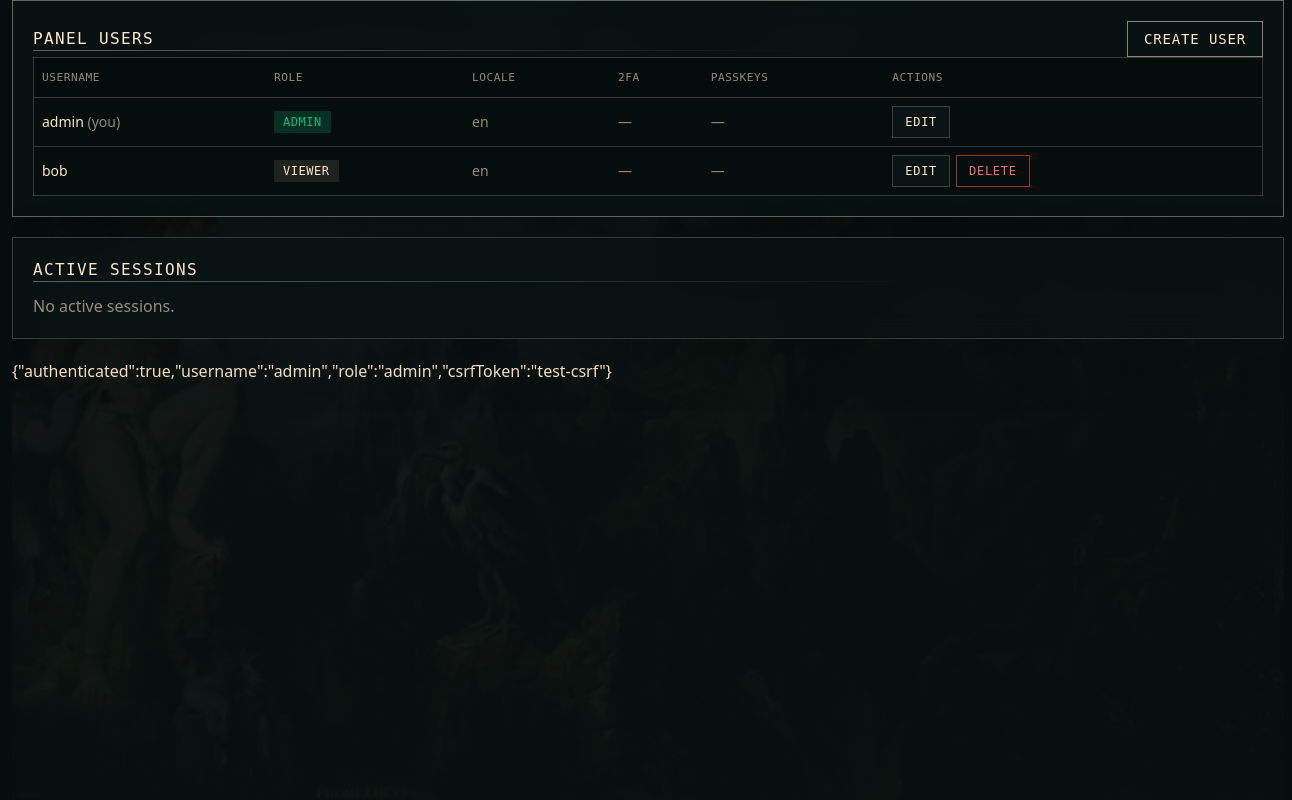
Test: UsersPage errors › warns about self-edit and signs out instead of painting updated
Expected: the text with test id "session-probe" shows "\"authenticated\":true", [12,360,612,382]
Click the button "Edit" in the row of "(you)" at (921,122), box [892,106,950,138]
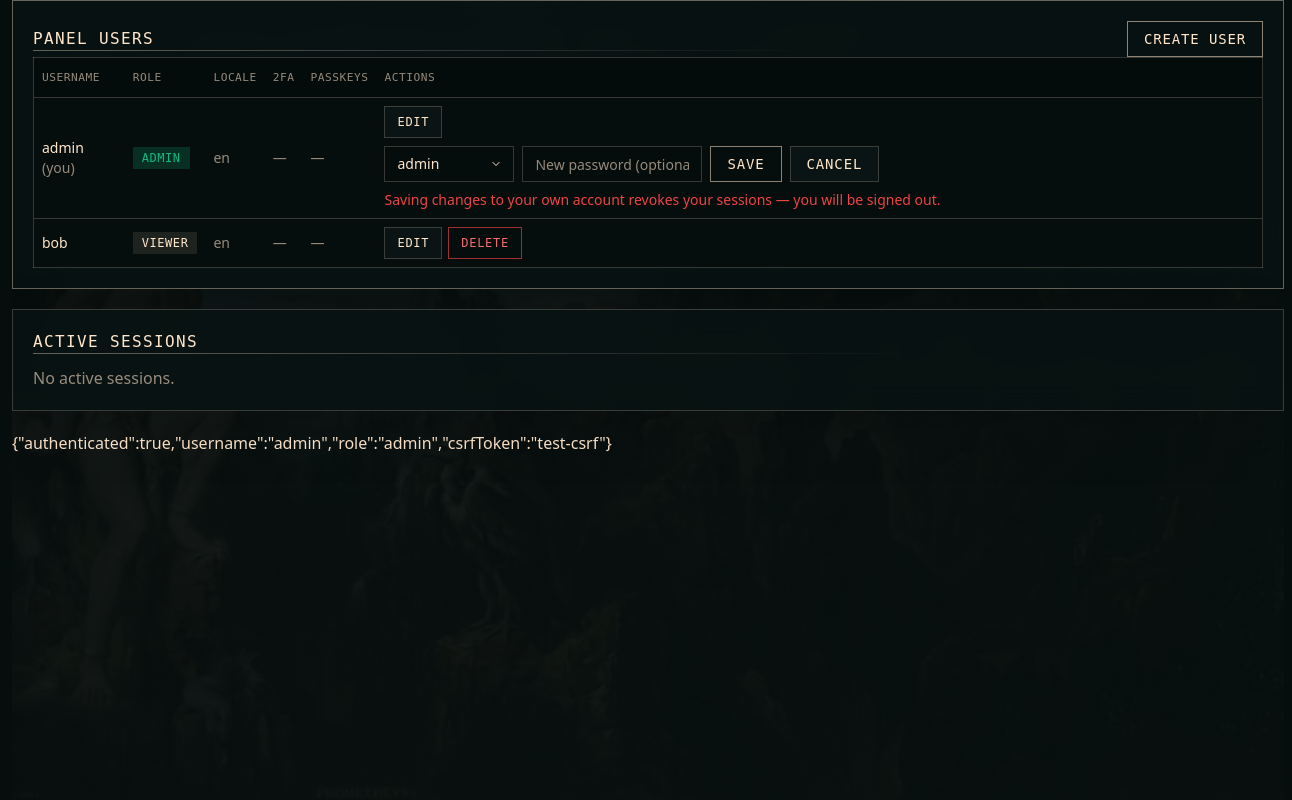
Type "new-secret-pass-1" into the password field labelled "New password (optional)" at (612,164), box [522,146,702,182]
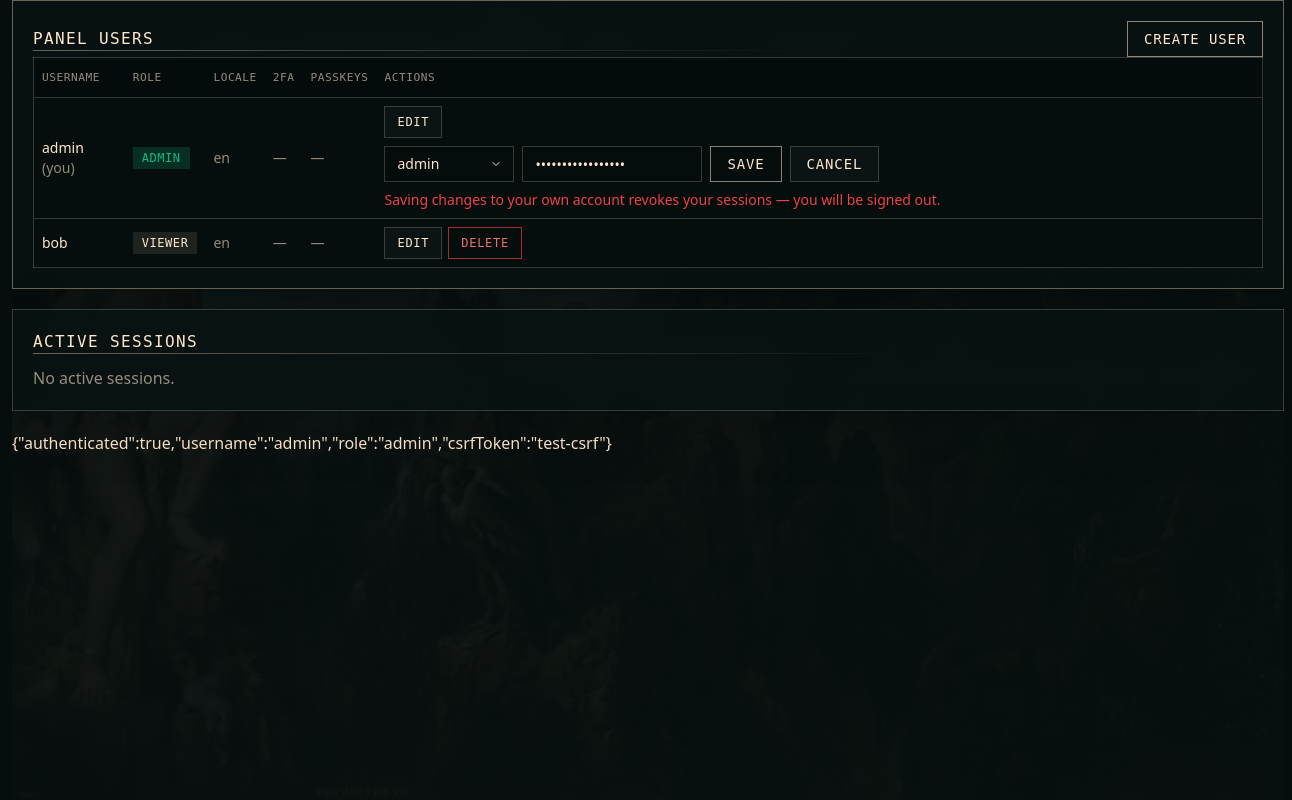
Click the button "Save" at (746,164), box [710,146,782,182]
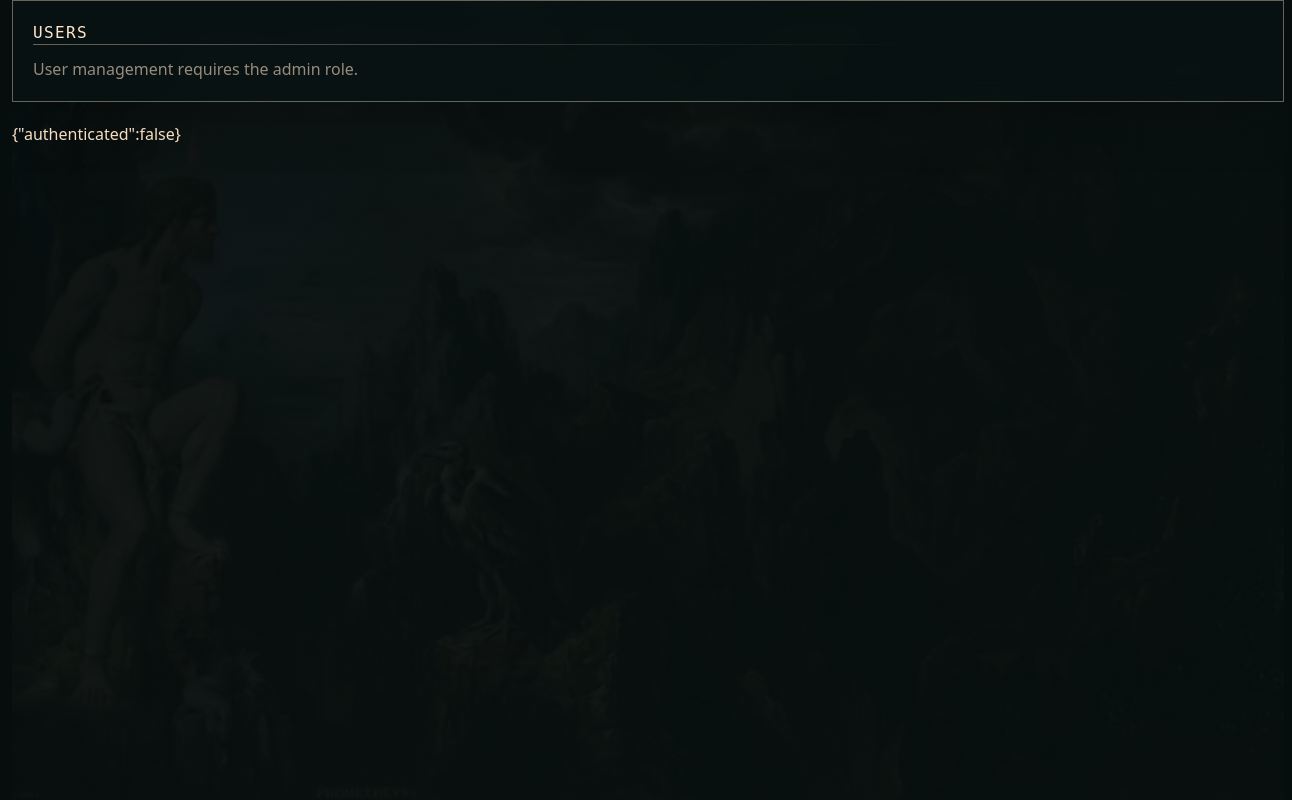
Result: the text with test id "session-probe" shows "\"authenticated\":false" at [12,123,181,145]
